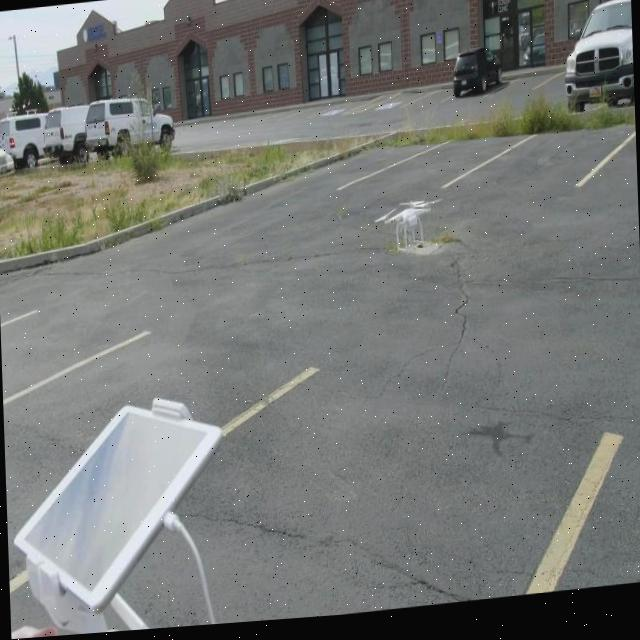drone: (379, 198, 439, 260)
